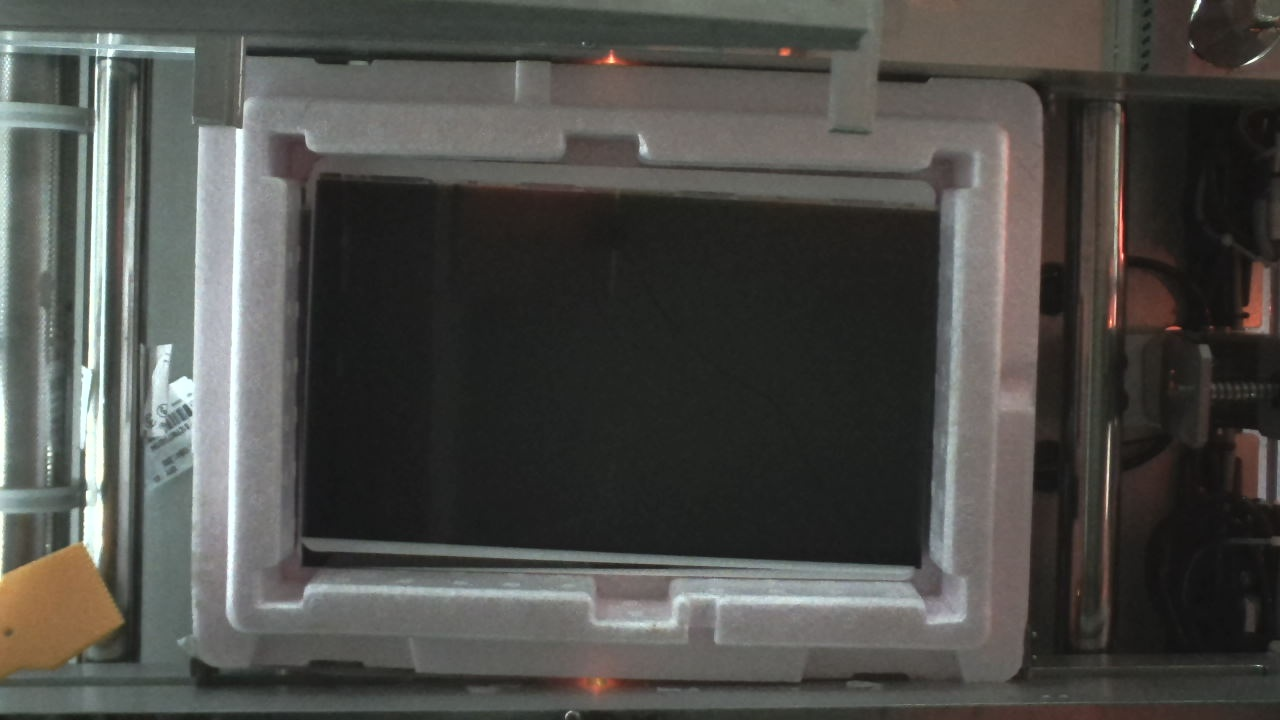OK: (184, 52, 1049, 687)
